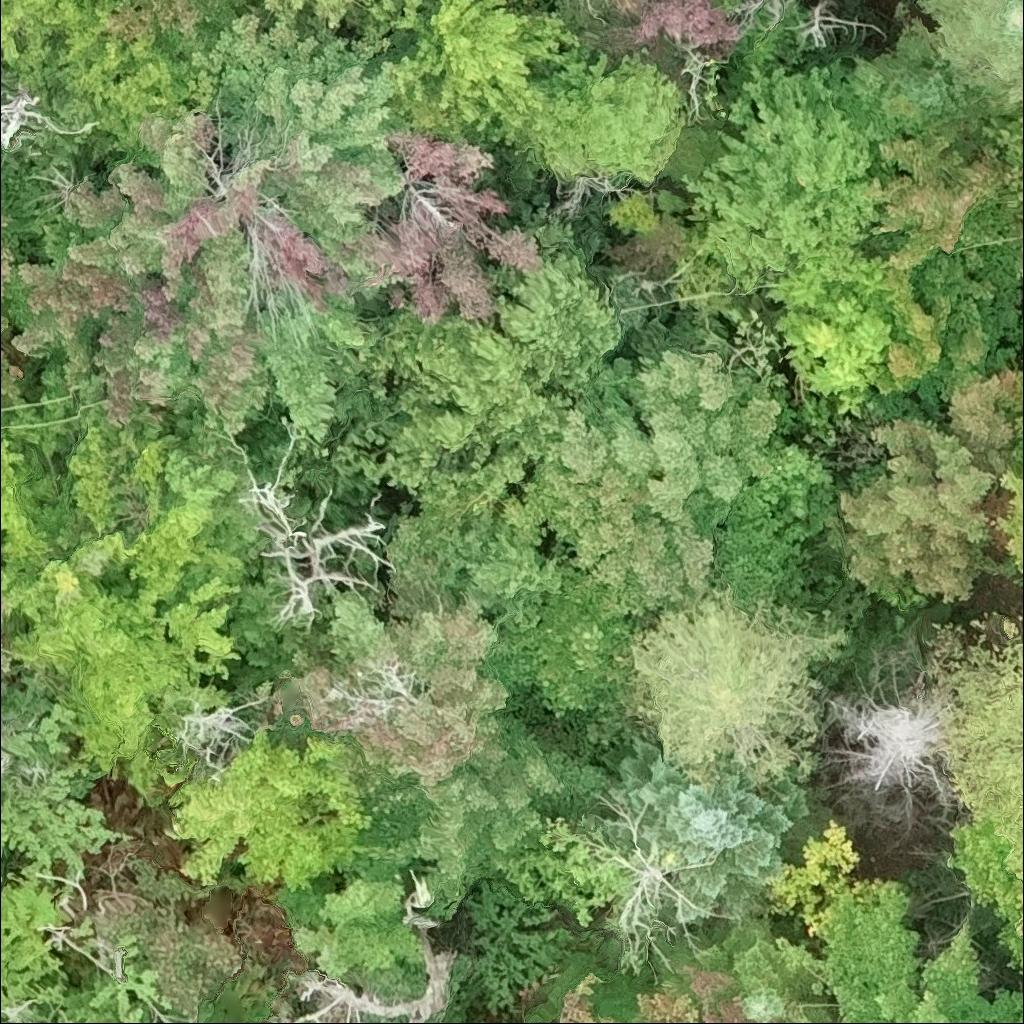crown: (0, 7, 408, 441), (237, 588, 611, 916), (303, 211, 628, 502), (0, 423, 248, 778), (531, 347, 791, 613), (680, 55, 892, 296), (629, 577, 849, 791), (601, 732, 821, 926), (821, 414, 1003, 613), (364, 132, 543, 327), (355, 0, 584, 149), (481, 561, 657, 750), (923, 607, 1023, 937), (800, 883, 1023, 1023), (383, 479, 580, 629), (817, 647, 954, 839), (3, 17, 194, 149), (521, 43, 689, 189), (865, 126, 1008, 270), (889, 240, 1000, 401), (698, 911, 833, 1023), (906, 0, 1023, 112), (868, 28, 984, 140), (611, 807, 676, 958), (750, 445, 840, 543), (635, 959, 756, 1023), (0, 0, 115, 65), (145, 0, 255, 66), (524, 963, 636, 1023), (659, 108, 740, 186), (973, 106, 1023, 227), (249, 0, 369, 38), (990, 466, 1023, 581), (0, 170, 16, 303), (0, 351, 28, 393), (605, 0, 638, 15), (0, 311, 13, 338), (0, 647, 7, 676), (0, 605, 4, 621), (773, 1020, 781, 1023), (1021, 453, 1023, 461)
